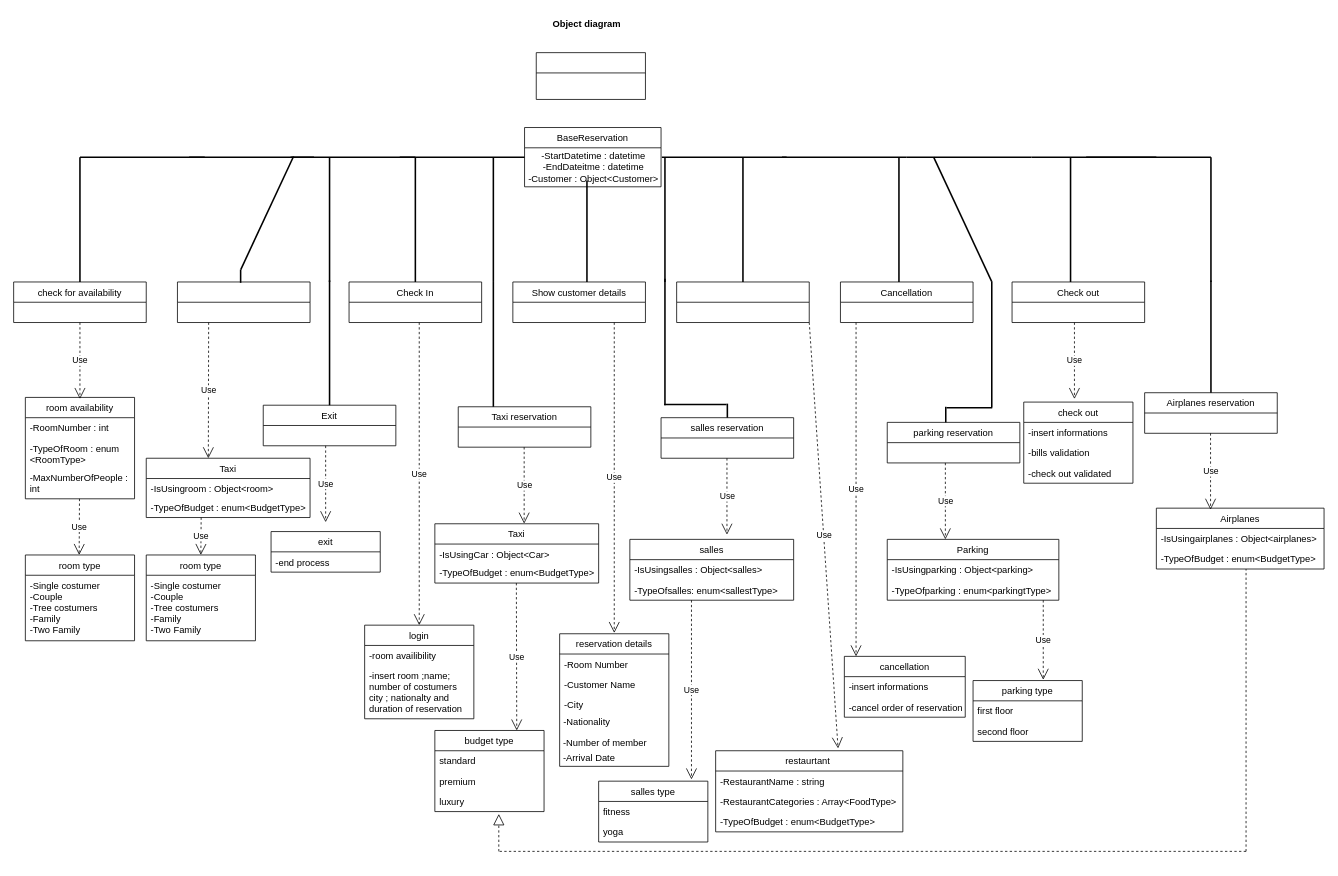
Image size: 1338x876. Some labels were removed from this diagram. The shapes that lost their labels are listed below. From the top down, each one's centre as x and y in pixels, then its label:
At point 590,75: "Receptionist".
At point 243,302: "Features of room".
At point 742,302: "Restaurant reservation".
